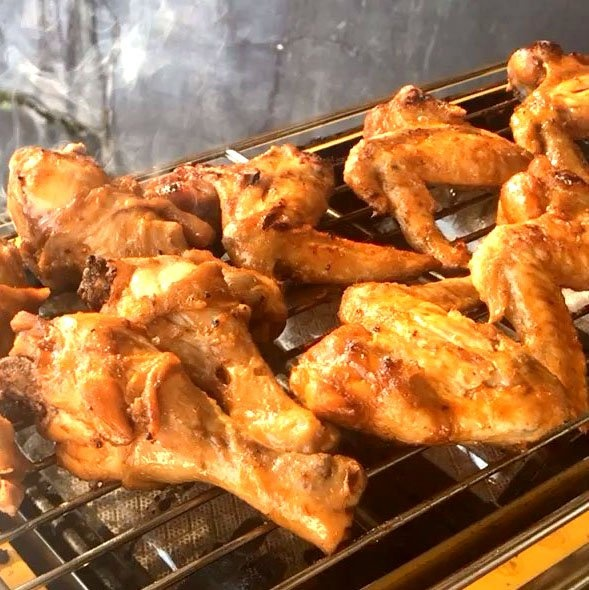ayam_goreng: (17, 310, 364, 550), (330, 69, 534, 261)
